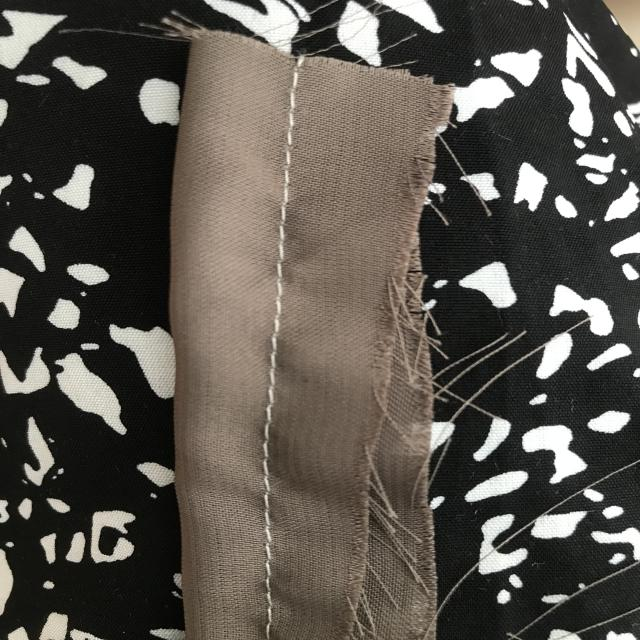good: (246, 278, 298, 464), (271, 95, 308, 252), (253, 494, 294, 622)
